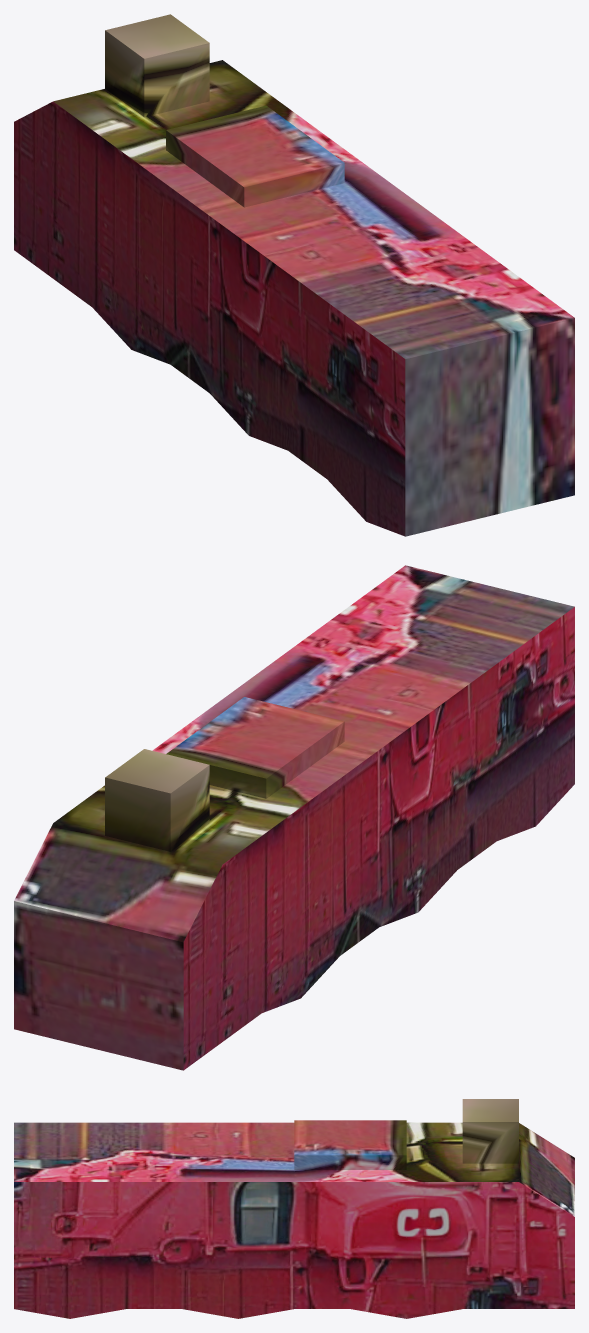
The model's file is train_caboose.glb.
3 renders of one model, top to bottom at view 1: azimuth 30°, elevation 25°; view 2: azimuth 150°, elevation 25°; view 3: azimuth 270°, elevation 25°, orthographic. The views are drawn at different scales.
Parts seen in each view (by area): view 1: caboose; view 2: caboose; view 3: caboose.
Boxes of the visible parts, bbox=[...] form: caboose: bbox=[14, 14, 574, 536]; caboose: bbox=[14, 565, 574, 1070]; caboose: bbox=[14, 1099, 574, 1318].
Size of the model in its own units: 0.2 by 0.2814 by 0.8.
Materials: 1 (1 with a texture image).
